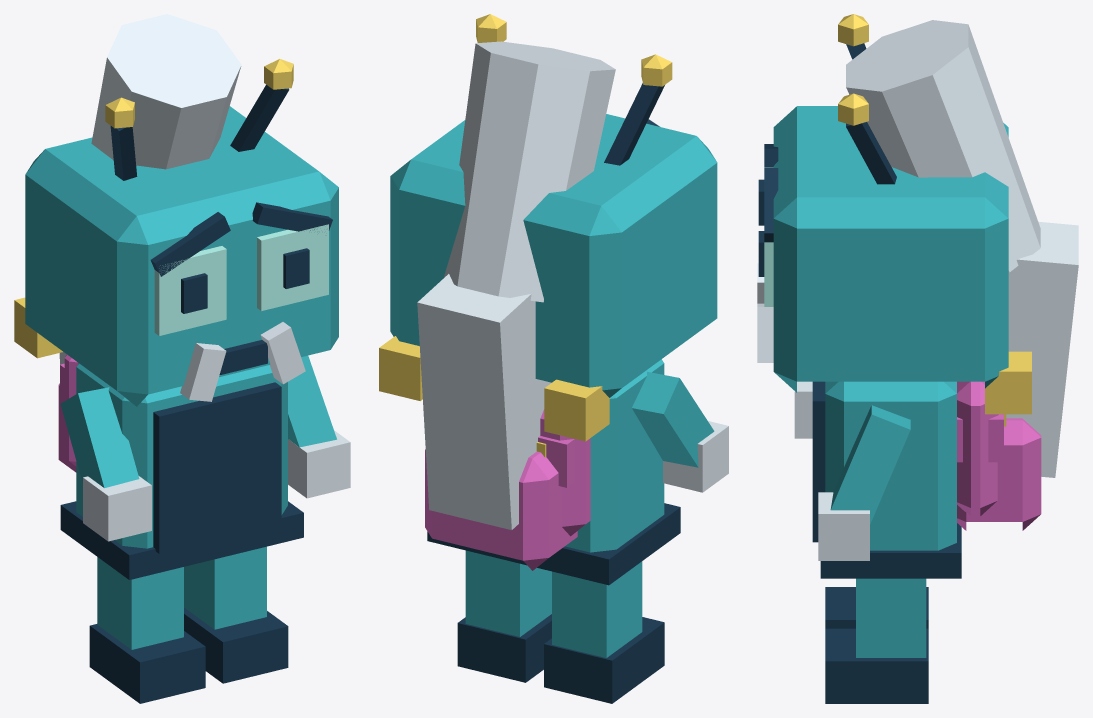
File: mortar_r12.glb
3 views of the same model, side by side, from view 1: azimuth 30°, elevation 25°; view 2: azimuth 150°, elevation 25°; view 3: azimuth 270°, elevation 25° (orthographic). The views are drawn at different scales.
Visible parts, largest first — view 1: mortar_r12_mesh; view 2: mortar_r12_mesh; view 3: mortar_r12_mesh.
Part boxes in pixels (<box>): mortar_r12_mesh: <box>14,14,350,703</box>; mortar_r12_mesh: <box>379,14,728,703</box>; mortar_r12_mesh: <box>757,14,1078,703</box>.
Size of the model in its own units: 0.734 by 1.7 by 0.785.
1 material, 1 textured.
